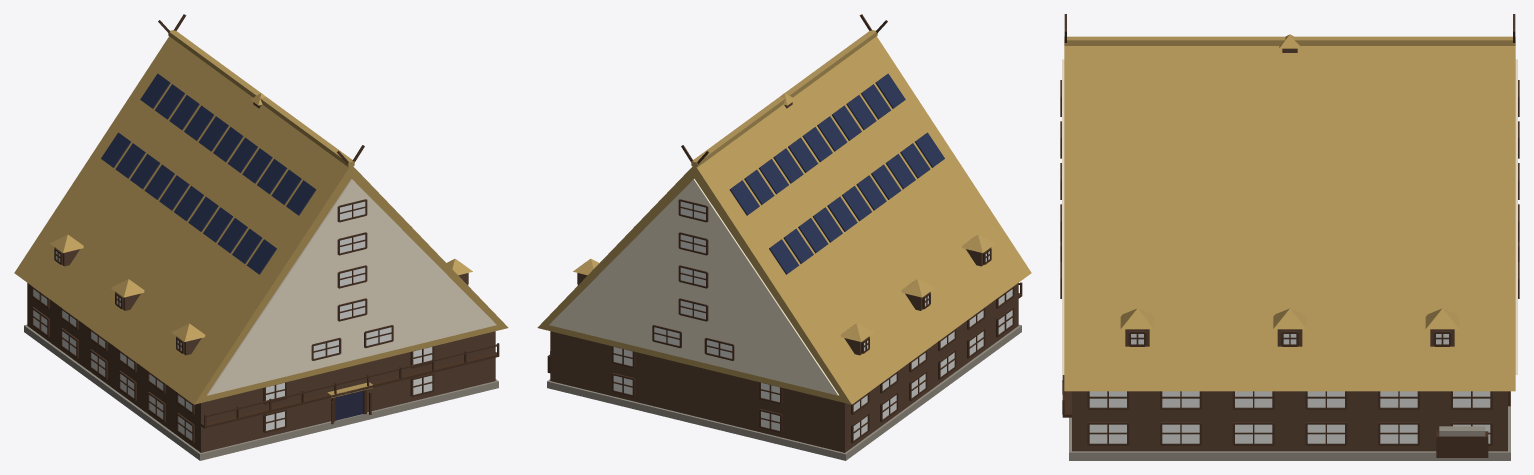
The model's file is house-3x3-3f-gassho-a-solar.glb.
3 views of the same model, side by side, from view 1: azimuth 30°, elevation 25°; view 2: azimuth 150°, elevation 25°; view 3: azimuth 270°, elevation 25° (orthographic). The views are drawn at different scales.
Visible parts, largest first — view 1: house-3x3-3f-gassho-a-solar; view 2: house-3x3-3f-gassho-a-solar; view 3: house-3x3-3f-gassho-a-solar.
Part boxes in pixels (<box>): house-3x3-3f-gassho-a-solar: <box>14,14,508,460</box>; house-3x3-3f-gassho-a-solar: <box>537,14,1031,460</box>; house-3x3-3f-gassho-a-solar: <box>1060,14,1519,460</box>.
Size of the model in its own units: 3 by 2.52 by 3.01.
1 material, 1 textured.
